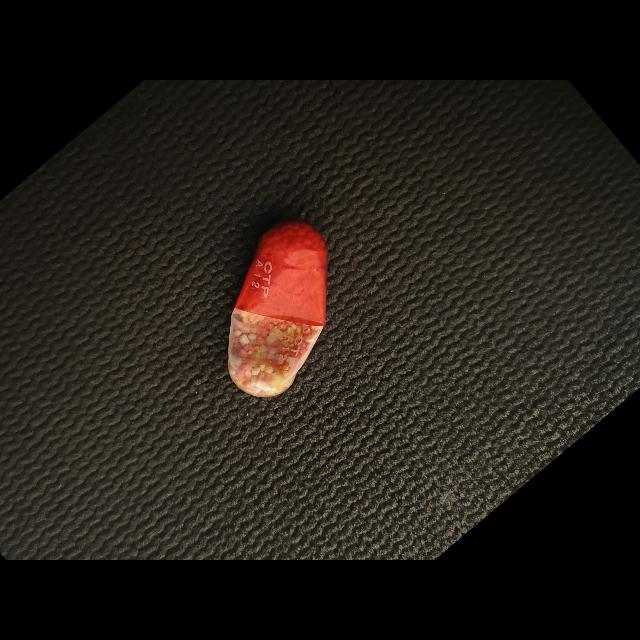Defective Capsule: (228, 221, 328, 397)
